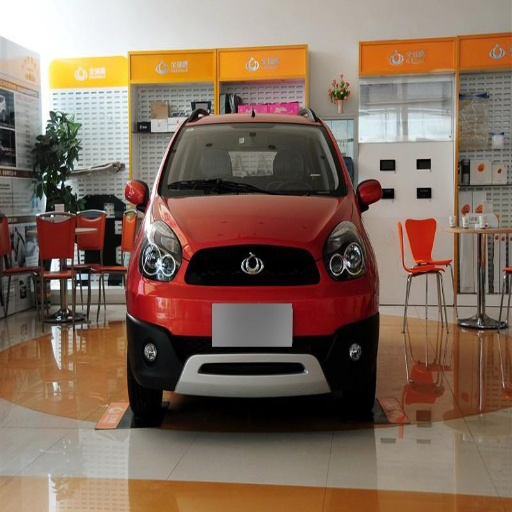front_bumper: (129, 249, 376, 391)
front_right_light: (141, 221, 182, 281)
hood: (151, 195, 347, 251)
